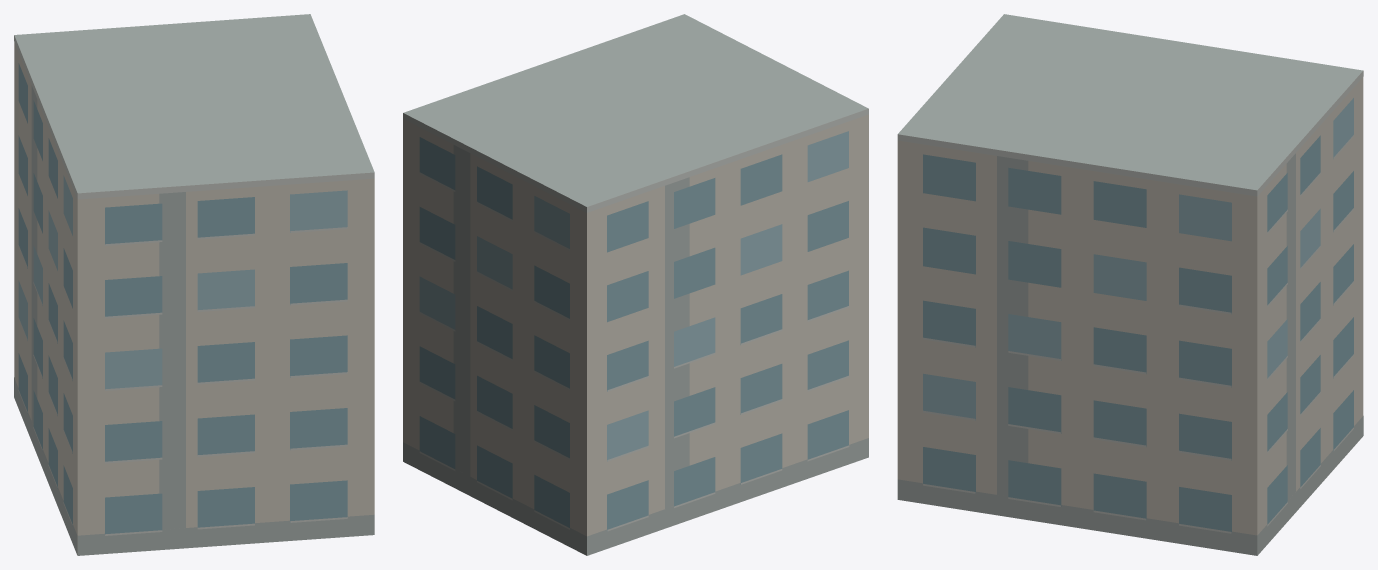
File: survey-upis-32566694.glb
3 renders of one model, left to right at view 1: azimuth 30°, elevation 25°; view 2: azimuth 150°, elevation 25°; view 3: azimuth 270°, elevation 25°, orthographic. The views are drawn at different scales.
Visible parts, largest first — view 1: survey-upis-32566694.tmp; view 2: survey-upis-32566694.tmp; view 3: survey-upis-32566694.tmp.
Boxes of the visible parts, x1=… form: survey-upis-32566694.tmp: x1=14, y1=14, x2=374, y2=555; survey-upis-32566694.tmp: x1=403, y1=14, x2=868, y2=555; survey-upis-32566694.tmp: x1=897, y1=14, x2=1363, y2=555.
Size of the model in its own units: 14.91 by 14.4 by 16.64.
